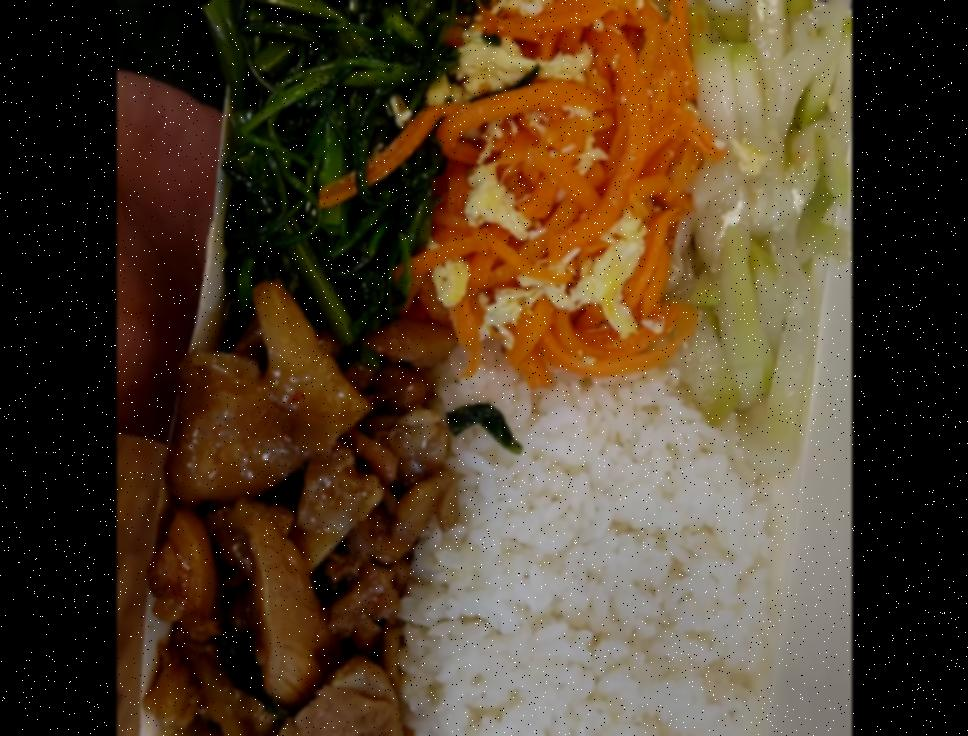box: (123, 0, 803, 736)
side dish: (429, 0, 675, 376), (233, 0, 455, 328), (682, 0, 840, 421)
three cup chicken: (149, 310, 433, 736)
white rice: (407, 349, 785, 736)
